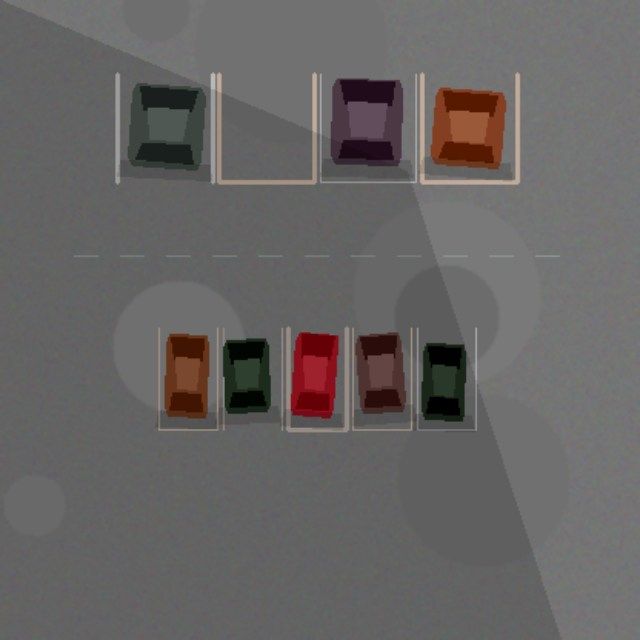space-empty: (218, 74, 314, 182)
space-occupied: (117, 74, 212, 182), (320, 74, 415, 182), (422, 74, 517, 182), (158, 328, 217, 429), (223, 328, 282, 429), (352, 328, 411, 429), (288, 328, 346, 429), (417, 328, 475, 429)
